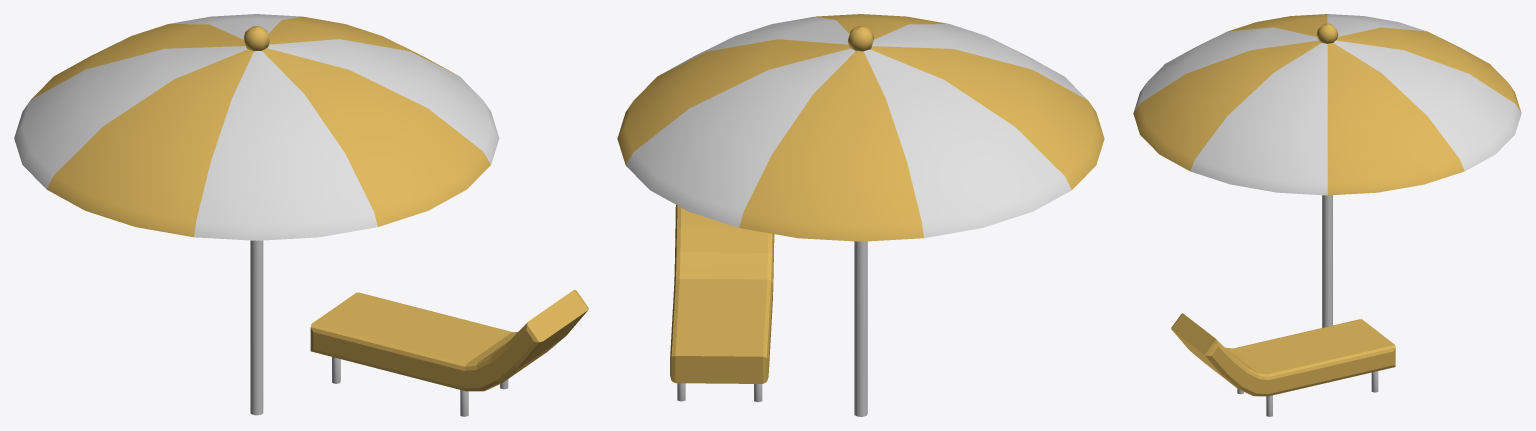
Rendered from guarda_sol_1.glb.
3 renders of one model, left to right at view 1: azimuth 30°, elevation 25°; view 2: azimuth 150°, elevation 25°; view 3: azimuth 270°, elevation 25°, orthographic. The views are drawn at different scales.
Visible parts, largest first — view 1: guarda_sol_1_corpo; view 2: guarda_sol_1_corpo; view 3: guarda_sol_1_corpo.
Part boxes in pixels (left/top/right/bottom): guarda_sol_1_corpo: left=14, top=14, right=588, bottom=416; guarda_sol_1_corpo: left=617, top=14, right=1104, bottom=416; guarda_sol_1_corpo: left=1133, top=14, right=1521, bottom=416.
Size of the model in its own units: 3.96 by 3.12 by 3.56.
